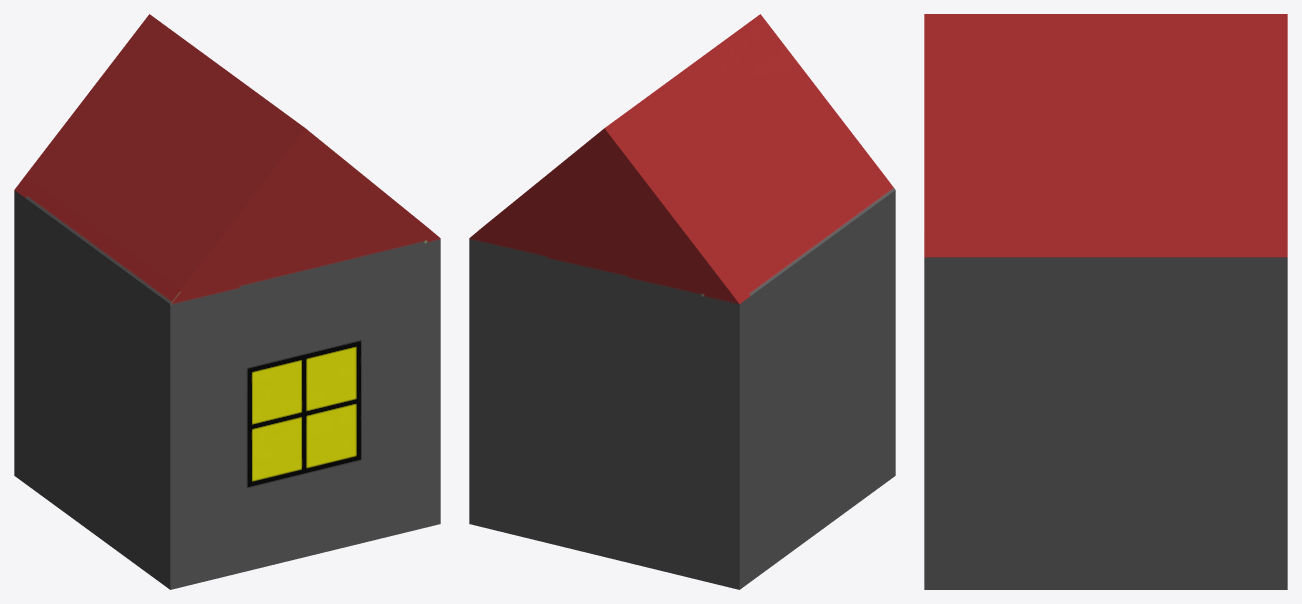
The model's file is house.gltf.
The picture shows the model from 3 angles, left to right: view 1: azimuth 30°, elevation 25°; view 2: azimuth 150°, elevation 25°; view 3: azimuth 270°, elevation 25°; orthographic projection. The views are drawn at different scales.
Visible parts, largest first — view 1: Cube_001; view 2: Cube_001; view 3: Cube_001.
Boxes of the visible parts, bbox=[...] form: Cube_001: bbox=[14, 14, 440, 589]; Cube_001: bbox=[469, 14, 895, 589]; Cube_001: bbox=[924, 14, 1287, 589].
Size of the model in its own units: 2.5 by 3.78 by 2.5.
1 material, 1 textured.
